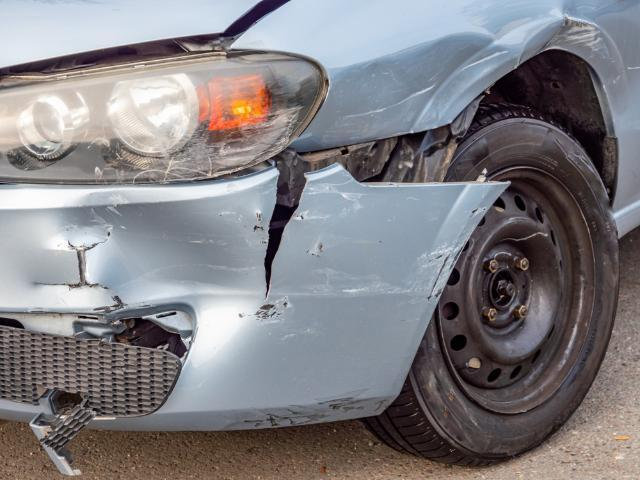crack: (263, 169, 309, 299), (30, 234, 110, 291)
dent: (308, 0, 640, 144), (58, 192, 260, 361)
dislocated part: (230, 127, 517, 429)
scratch: (247, 176, 492, 338), (149, 107, 305, 187), (220, 386, 390, 431)
